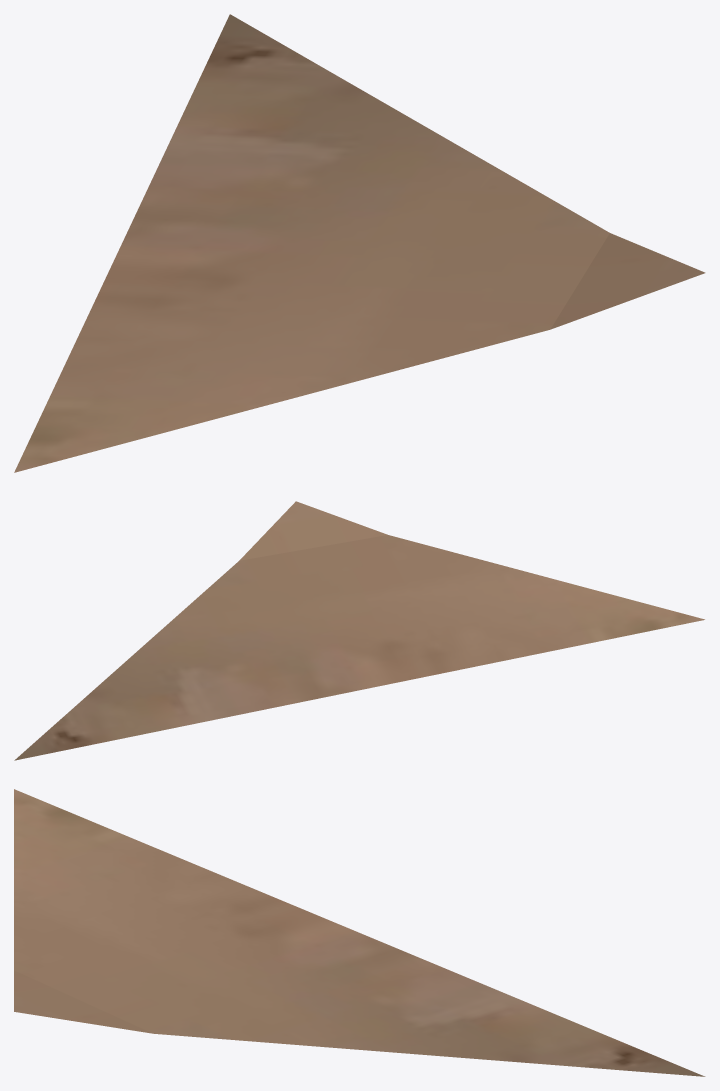
3 views of the same model, one above another, from view 1: azimuth 30°, elevation 25°; view 2: azimuth 150°, elevation 25°; view 3: azimuth 270°, elevation 25° (orthographic). The views are drawn at different scales.
Size of the model in its own units: 0.3159 by 0.0391 by 0.3765.
1 material, 1 textured.
